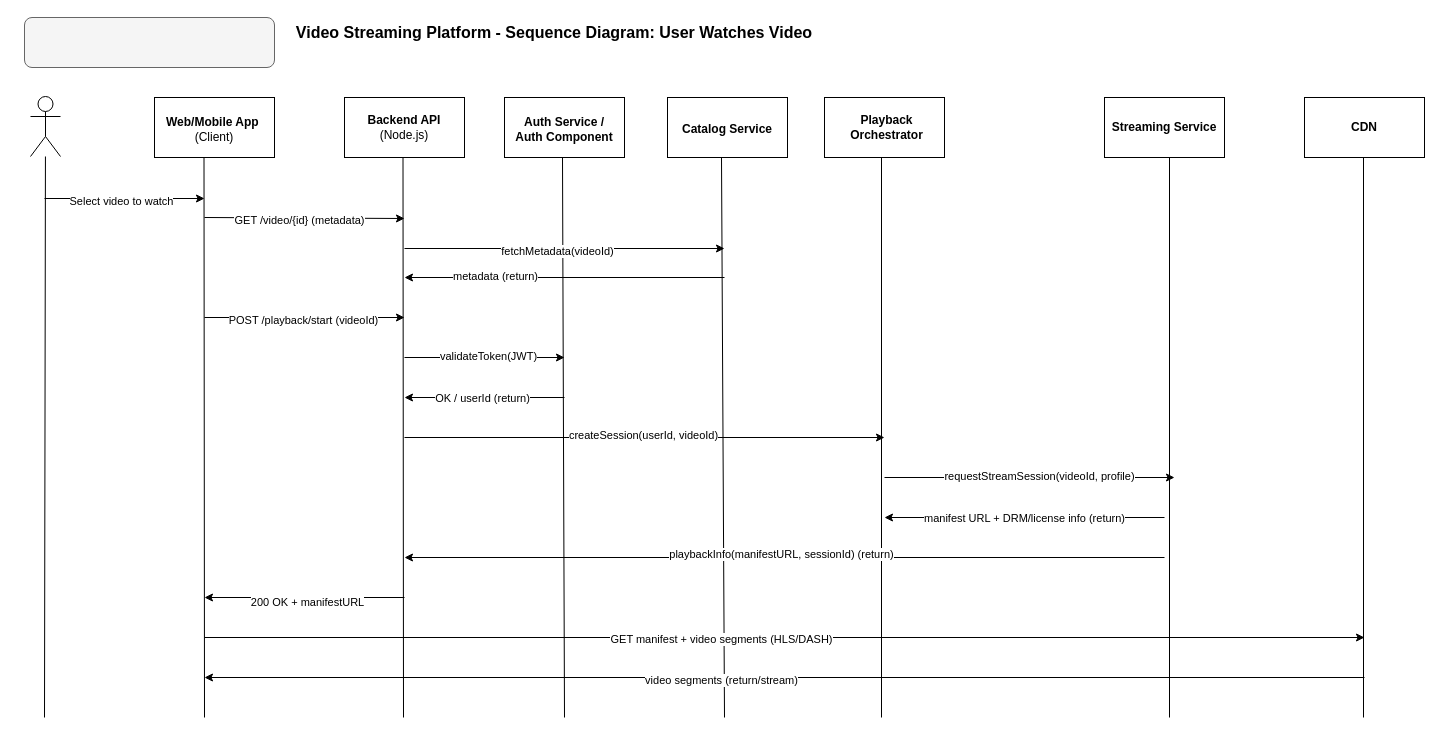
Some shapes in this 1442 by 736 pixel diagram are drawn without their labels. Here are the shapes that lost their labels. From the top down, the centre of each, then its label:
At [149,42]: "Add: 5+ participants, 8+ messages Show lifelines and message flow".
At [45,126]: "Subscriber".
